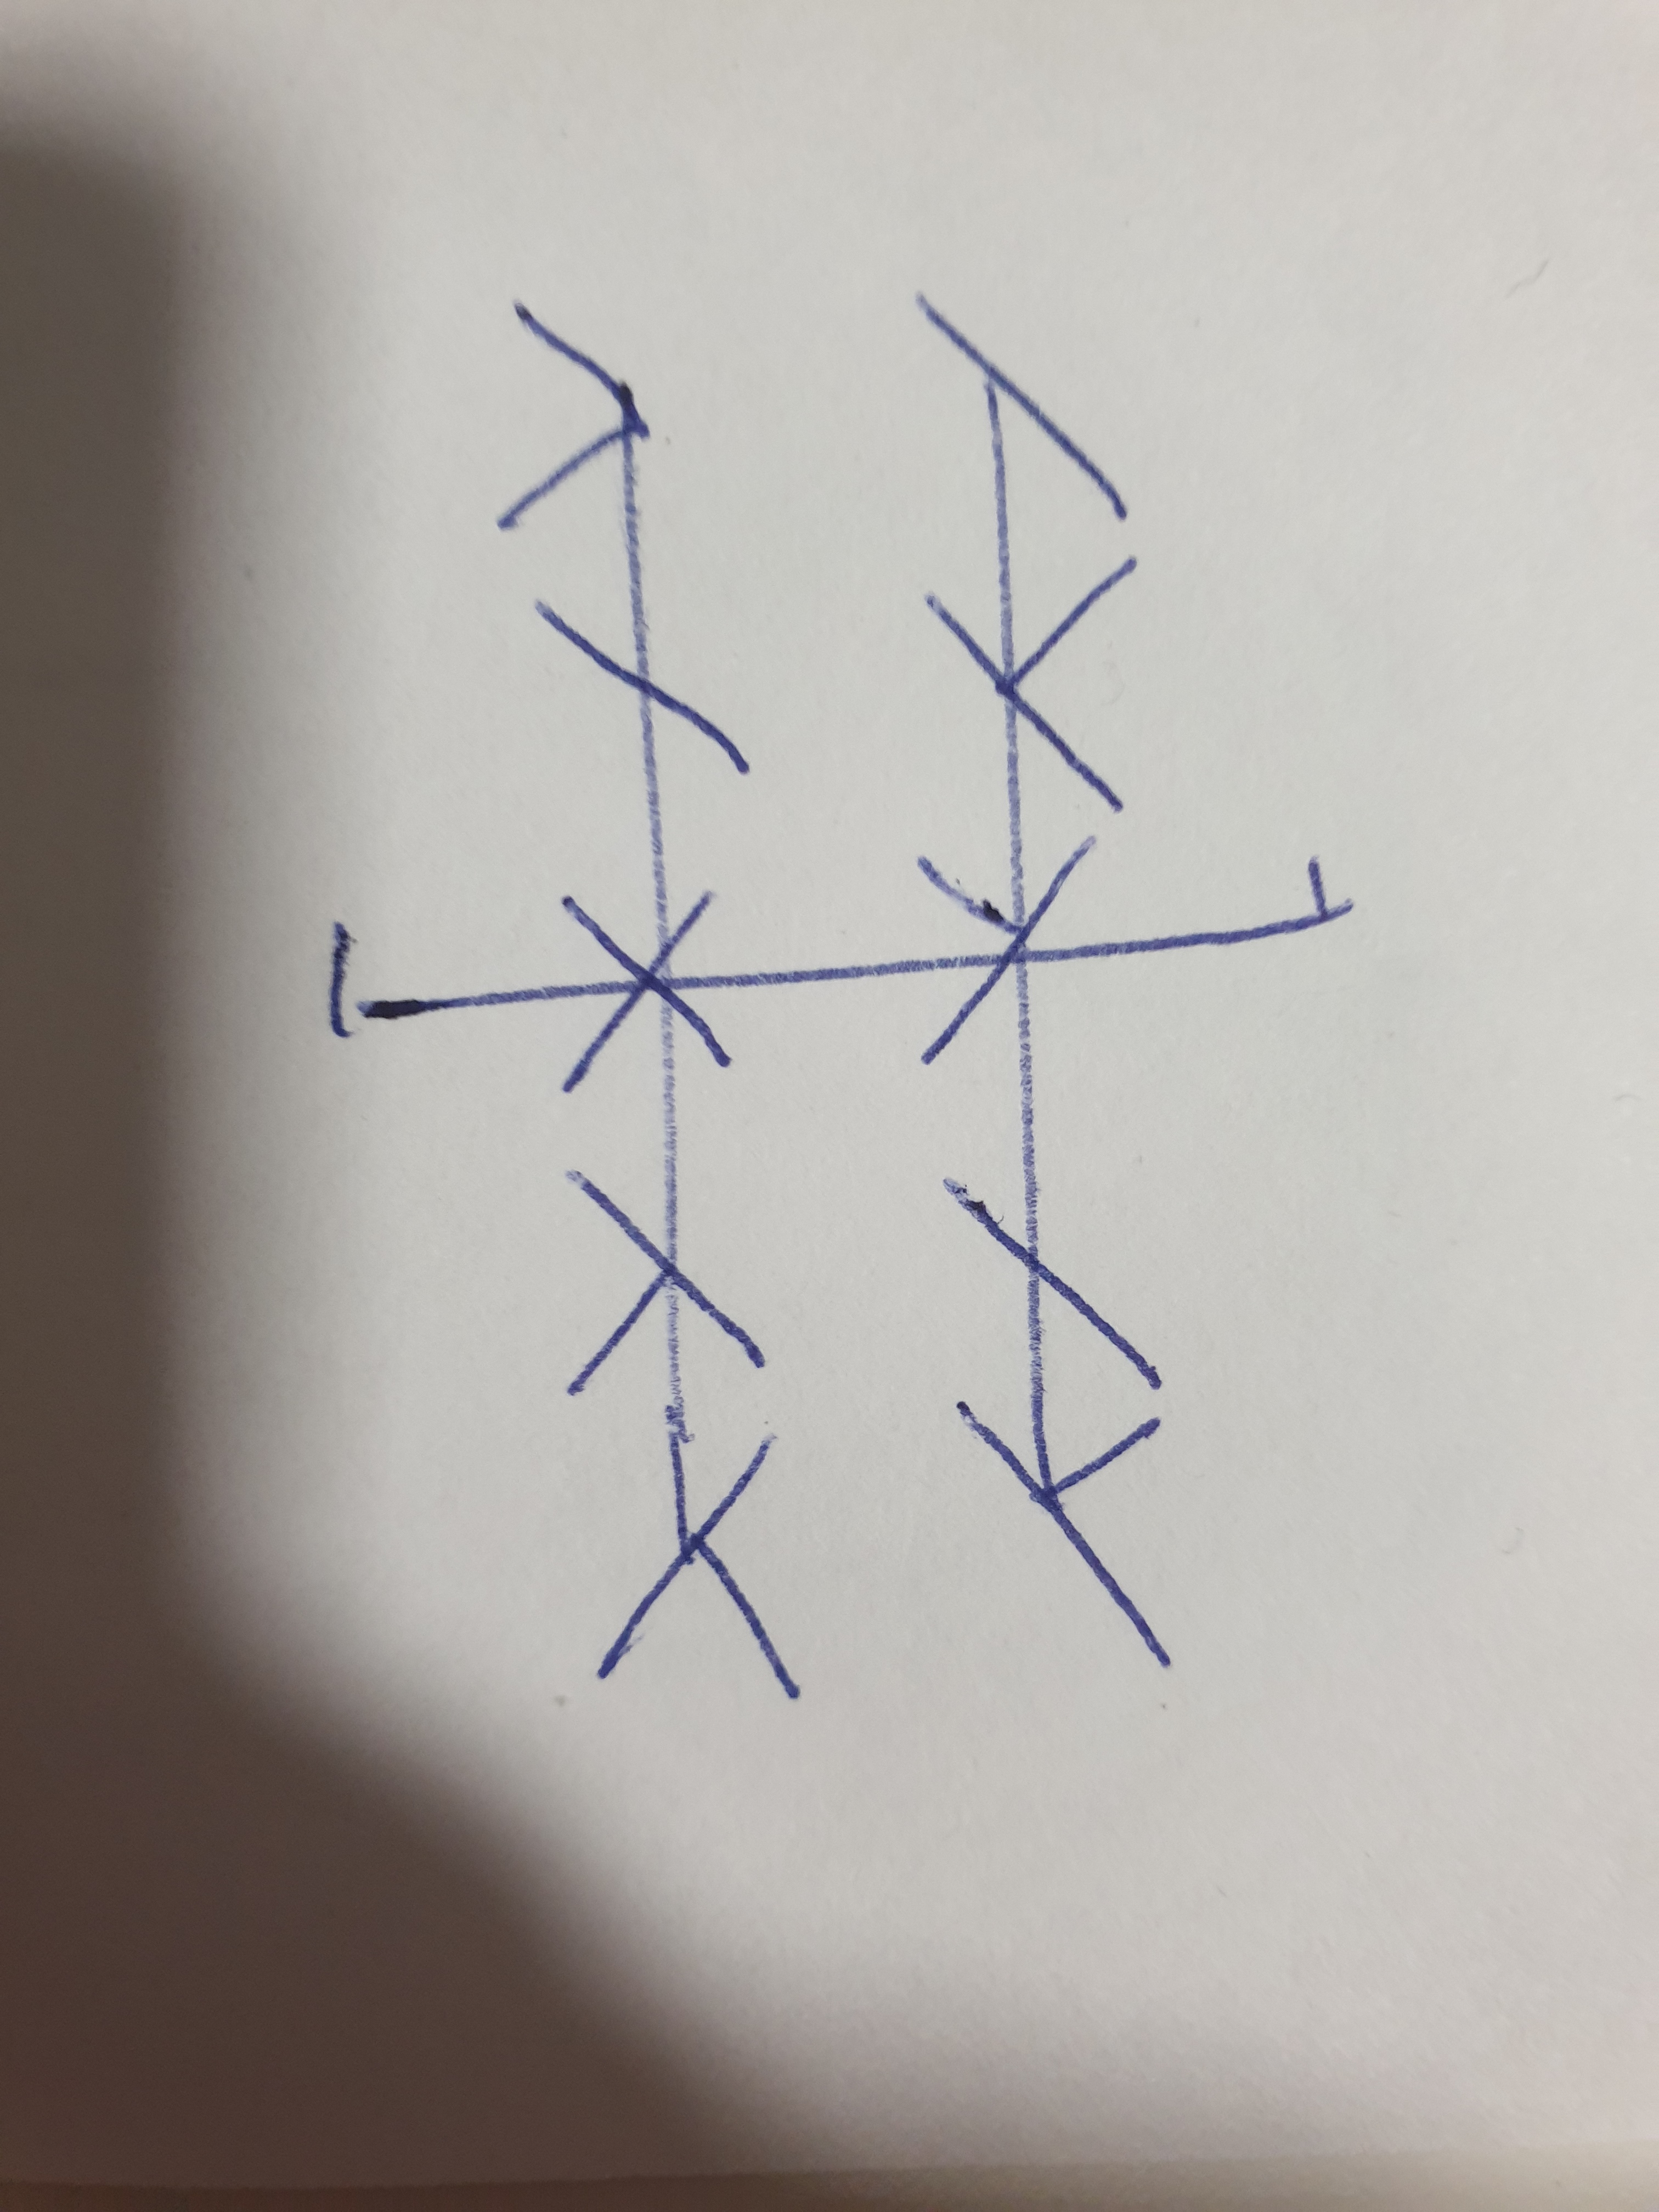Bar: (495, 294, 805, 1702), (913, 293, 1171, 1669)
Barcode: (328, 289, 1358, 1702)
End: (1089, 855, 1354, 963)
Start: (326, 920, 565, 1049)
